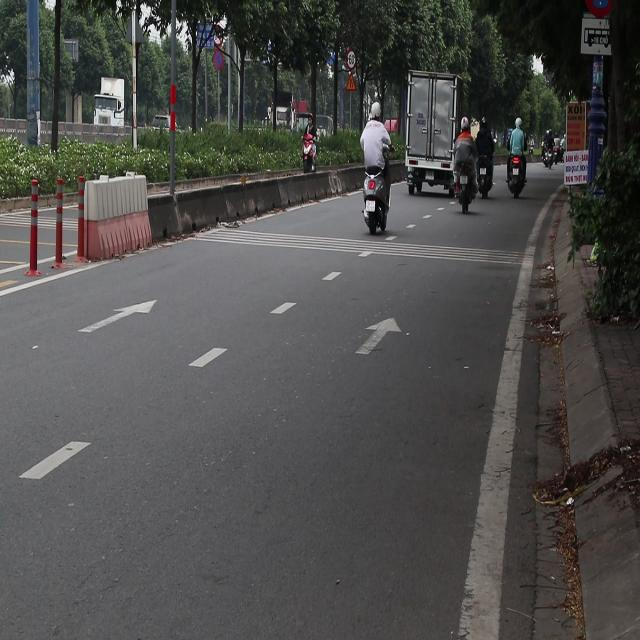car: (153, 115, 179, 134)
motorbike: (360, 167, 391, 234), (506, 144, 529, 199), (451, 154, 471, 215), (305, 126, 324, 188), (544, 138, 568, 170), (478, 159, 493, 201)
truck: (405, 74, 468, 200), (81, 71, 136, 145)
